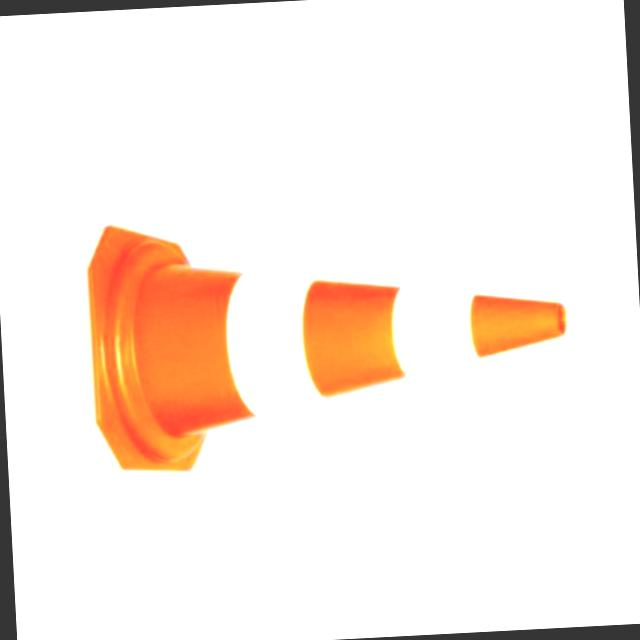cone: (71, 197, 574, 477)
